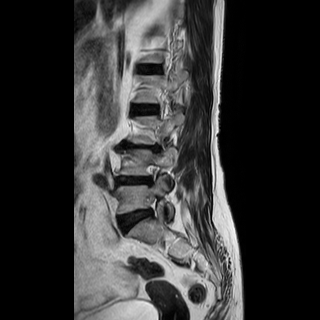RFS0: (138, 160, 164, 191)
